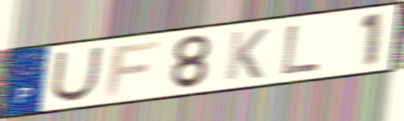1: (358, 10, 387, 68)
8: (169, 33, 213, 90)
F: (103, 38, 163, 99)
K: (223, 27, 271, 83)
L: (278, 23, 323, 77)
U: (48, 45, 106, 104)
